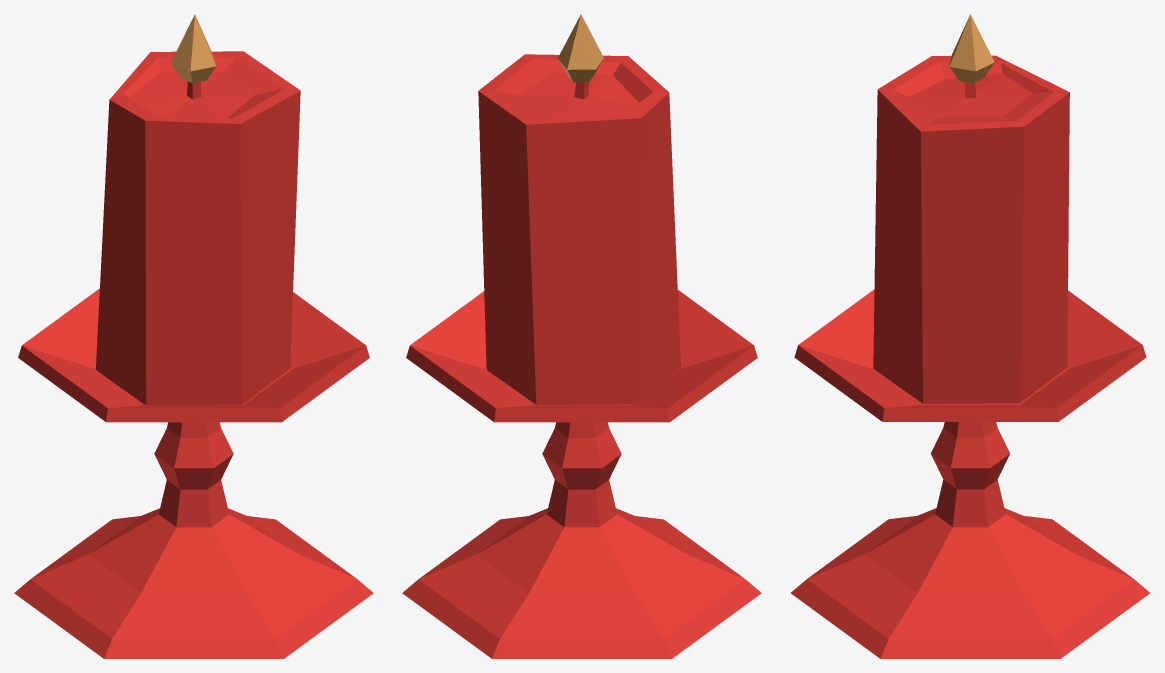
The model's file is SM_Candle_Holder_Short_A_Lit_Christmas.fbx.
3 views of the same model, side by side, from view 1: azimuth 30°, elevation 25°; view 2: azimuth 150°, elevation 25°; view 3: azimuth 270°, elevation 25° (orthographic).
Parts seen in each view (by area): view 1: candle-holder-short-a-lit-christmas; view 2: candle-holder-short-a-lit-christmas; view 3: candle-holder-short-a-lit-christmas.
Boxes of the visible parts, x1,y1,x2,y2 form: candle-holder-short-a-lit-christmas: [14, 14, 373, 658]; candle-holder-short-a-lit-christmas: [402, 14, 761, 658]; candle-holder-short-a-lit-christmas: [791, 14, 1149, 658].
Size of the model in its own units: 0.1495 by 0.3065 by 0.1727.
